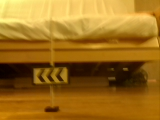left: (32, 66, 70, 84)
